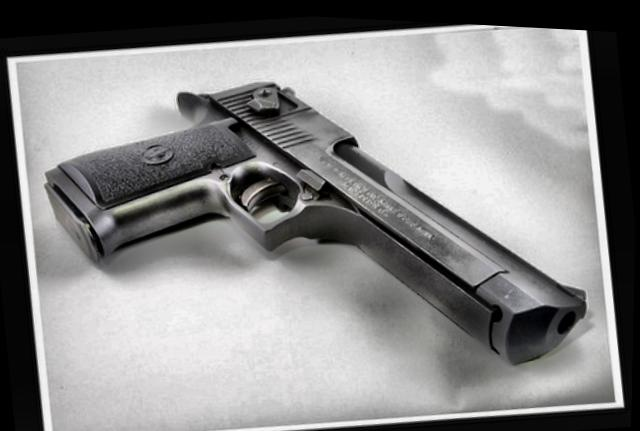pistol: (26, 31, 598, 417)
